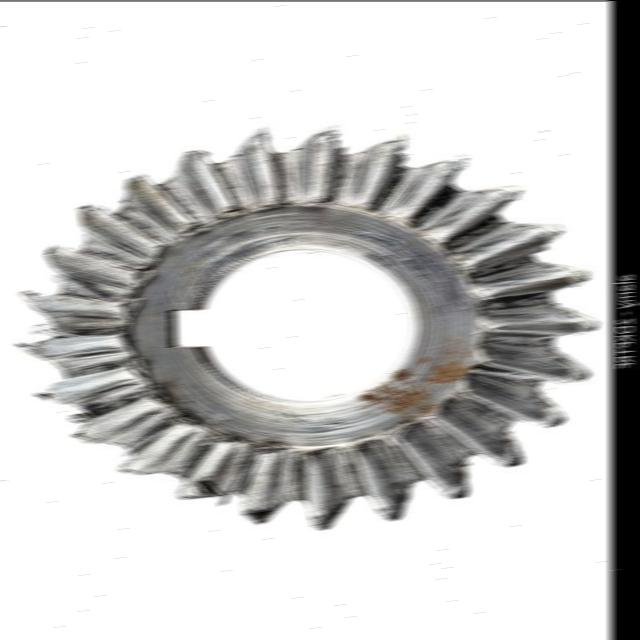Gear: (13, 124, 603, 530)
